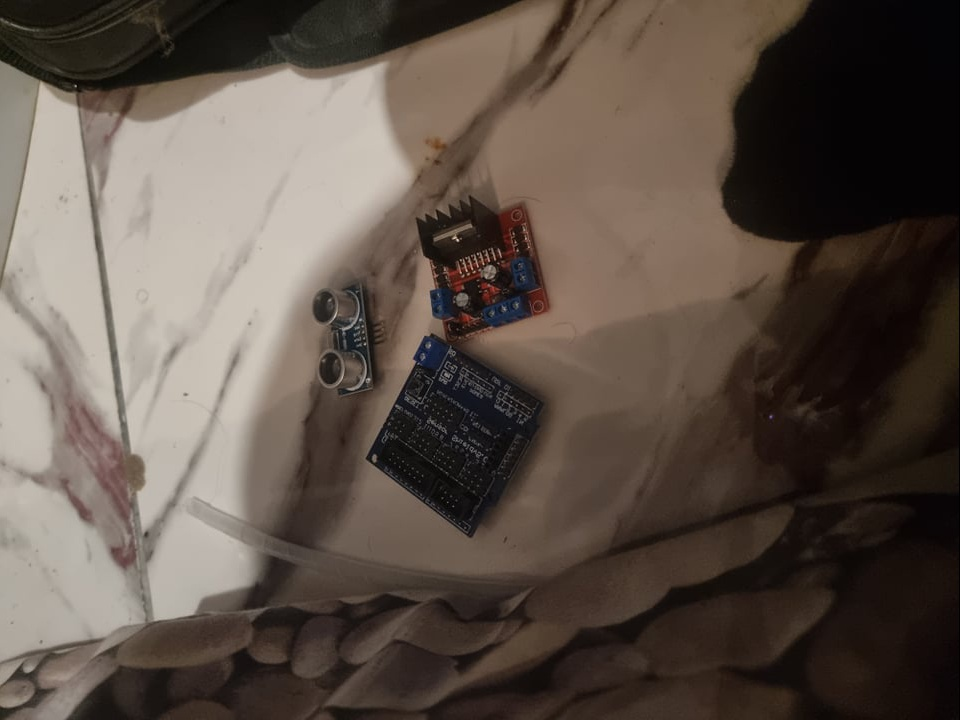5V EXPANSION: (365, 333, 546, 539)
MOTOR: (415, 196, 551, 341)
SENSOR: (313, 285, 377, 398)
